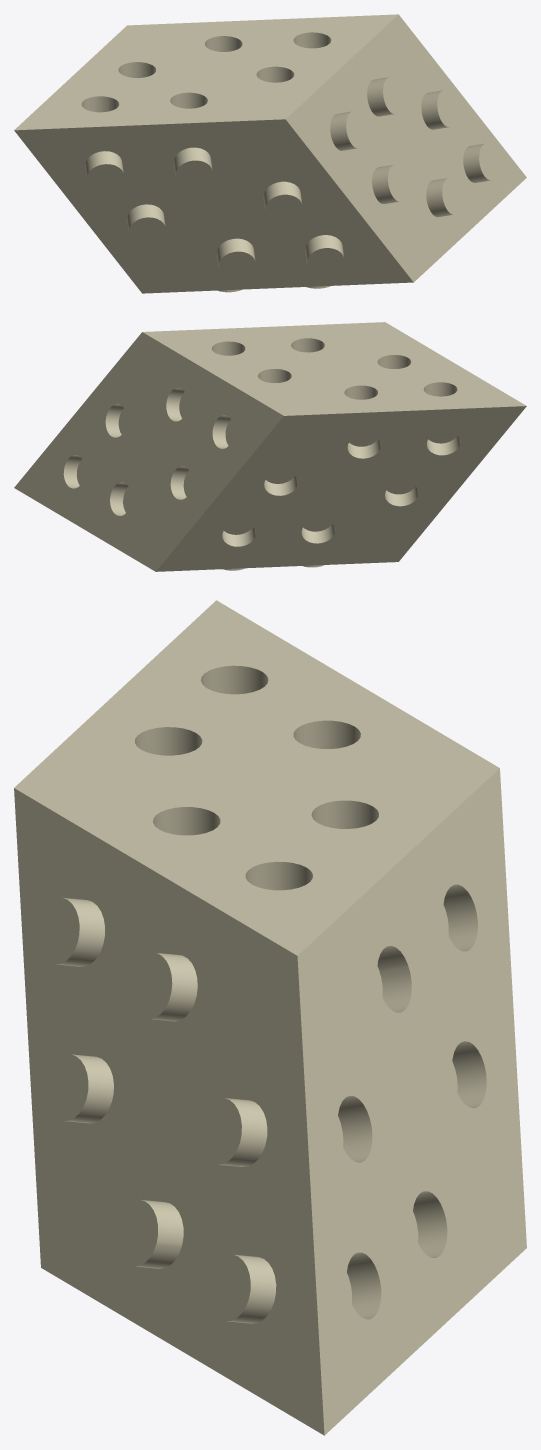
File: simple_thin_block.obj
The picture shows the model from 3 angles, top to bottom: view 1: azimuth 30°, elevation 25°; view 2: azimuth 150°, elevation 25°; view 3: azimuth 270°, elevation 25°; orthographic projection. The views are drawn at different scales.
Visible parts, largest first — view 1: Mesh1 Model; view 2: Mesh1 Model; view 3: Mesh1 Model.
Part boxes in pixels (x1,y1,x2,y2): Mesh1 Model: (14, 14, 526, 293); Mesh1 Model: (14, 322, 526, 571); Mesh1 Model: (14, 600, 526, 1435).
Size of the model in its own units: 166 by 63.69 by 75.65.
